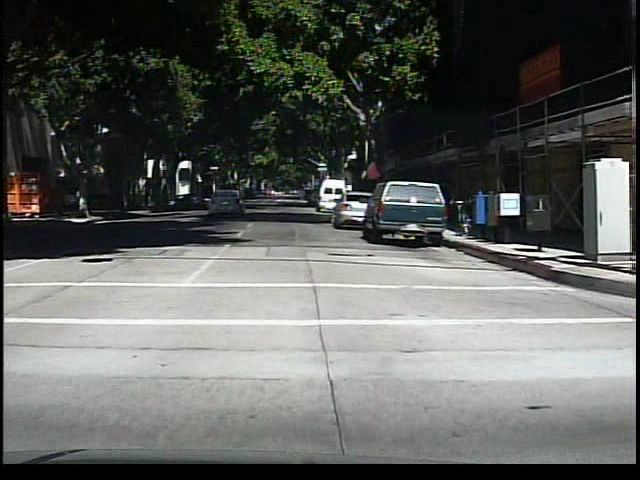person: (65, 184, 82, 220)
